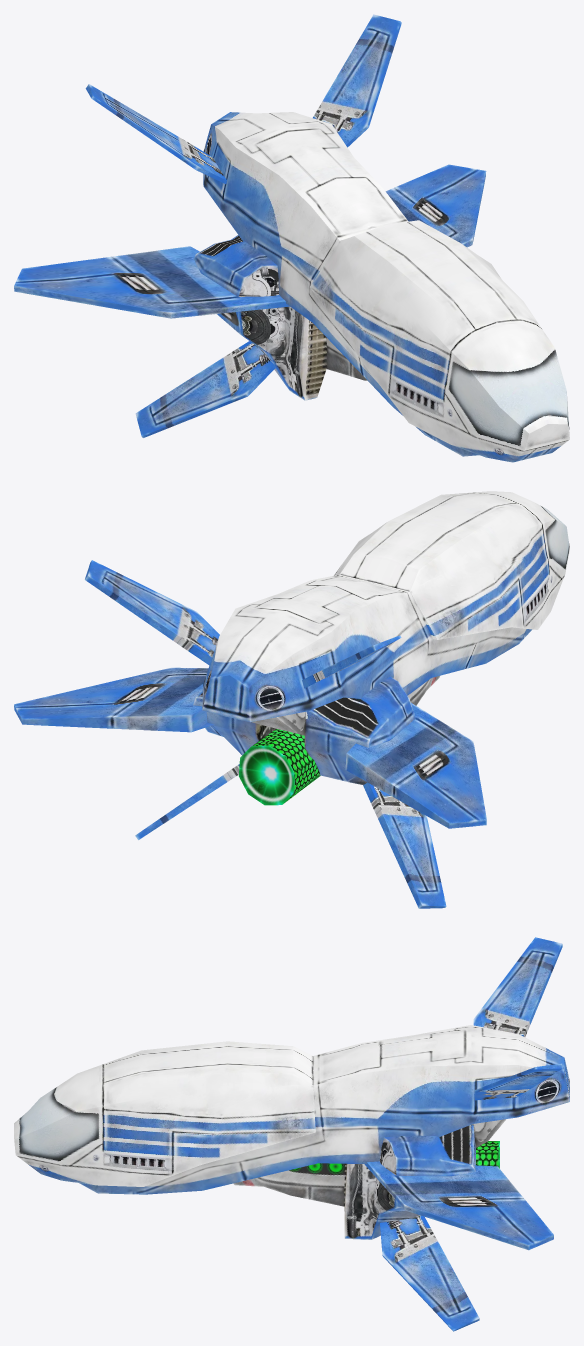
The model's file is sship.glb.
3 views of the same model, one above another, from view 1: azimuth 30°, elevation 25°; view 2: azimuth 150°, elevation 25°; view 3: azimuth 270°, elevation 25° (orthographic). The views are drawn at different scales.
Size of the model in its own units: 21.79 by 13.57 by 25.7.
Materials: 1 (1 with a texture image).
